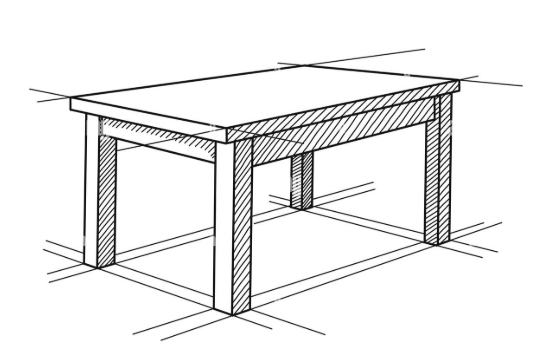table_legs: (212, 136, 254, 317), (82, 112, 118, 270), (423, 92, 454, 247), (290, 150, 313, 211)
table_support: (99, 96, 437, 168)
table_top: (68, 63, 461, 145)
